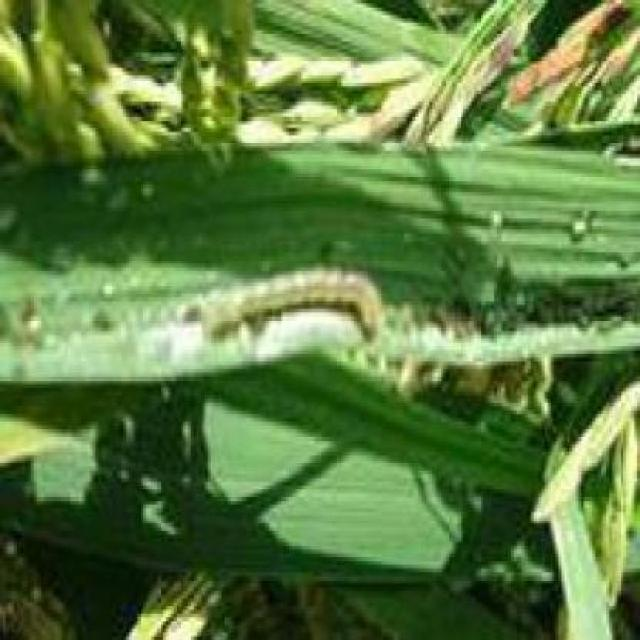leaf-folder: (215, 253, 388, 356)
